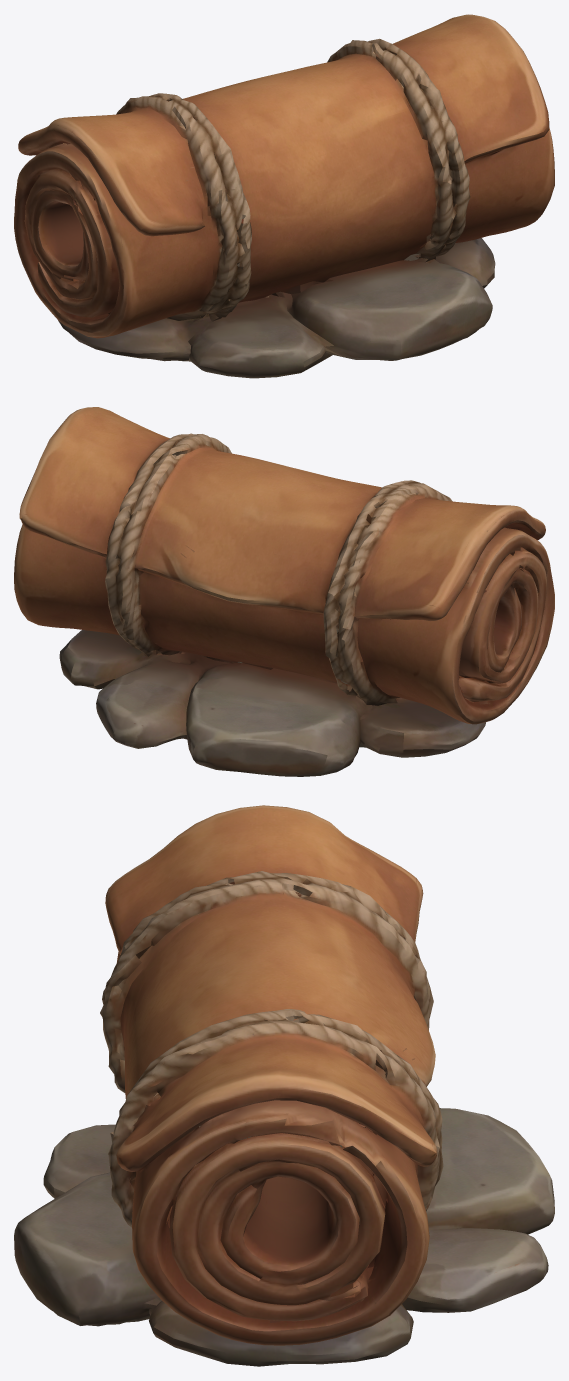
The model's file is harvest_hide.glb.
3 renders of one model, top to bottom at view 1: azimuth 30°, elevation 25°; view 2: azimuth 150°, elevation 25°; view 3: azimuth 270°, elevation 25°, orthographic. The views are drawn at different scales.
Parts seen in each view (by area): view 1: Mesh_0; view 2: Mesh_0; view 3: Mesh_0.
Part boxes in pixels (<box>): Mesh_0: <box>14,14,554,378</box>; Mesh_0: <box>14,407,554,776</box>; Mesh_0: <box>14,805,554,1366</box>.
Bounding box in the file's own units: 1.9 × 0.9033 × 1.47.
1 material, 1 textured.
